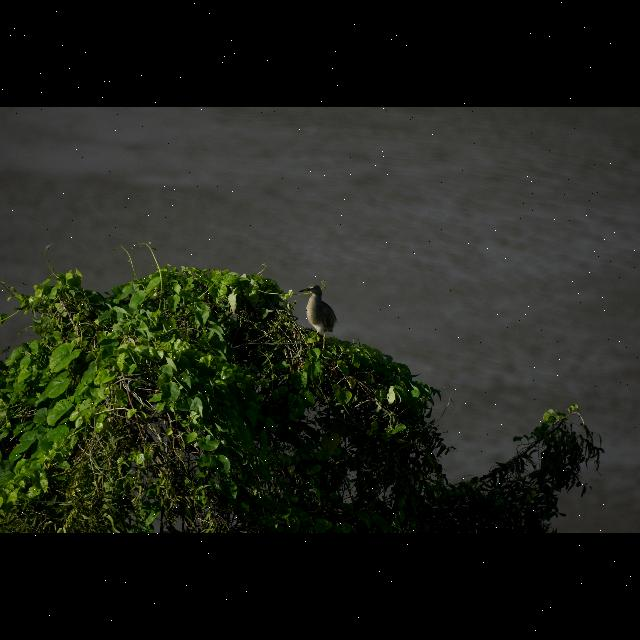heron: (294, 278, 346, 344)
